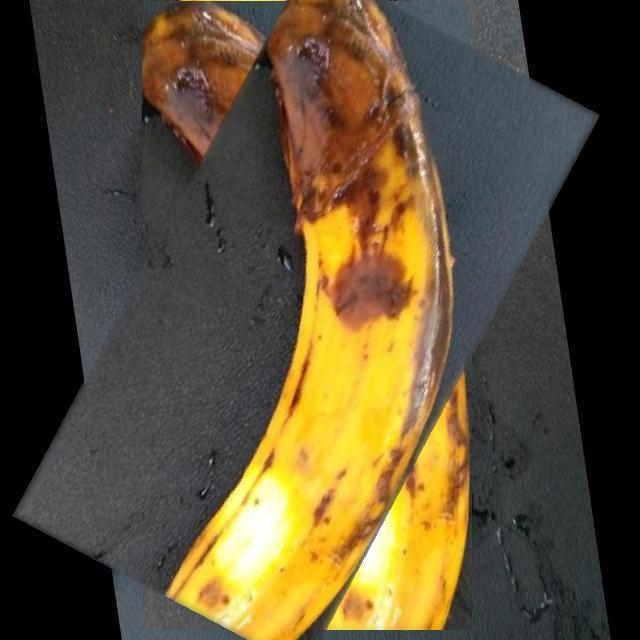Podre: (76, 0, 536, 640)
